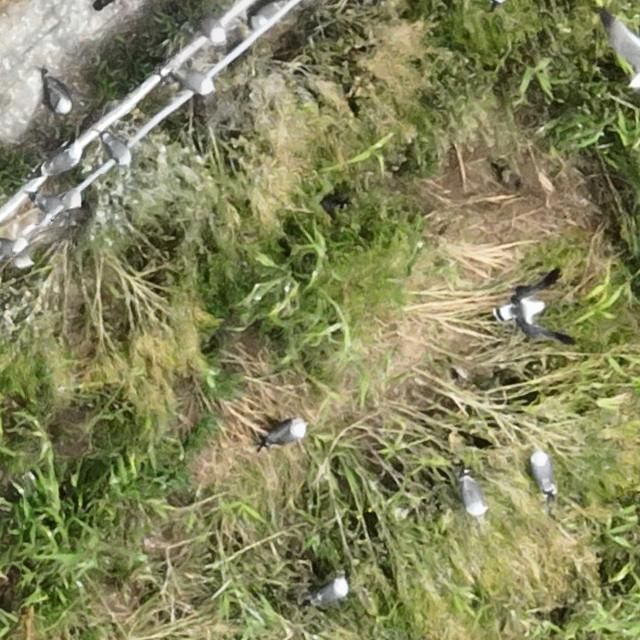F: (498, 274, 556, 346)
umineko: (40, 141, 81, 176), (171, 64, 216, 94), (199, 14, 228, 46), (42, 191, 84, 213), (250, 4, 288, 28), (463, 480, 487, 516), (314, 578, 350, 602), (267, 420, 303, 442), (534, 454, 554, 492), (105, 135, 130, 162), (50, 84, 70, 112), (1, 239, 25, 255)
